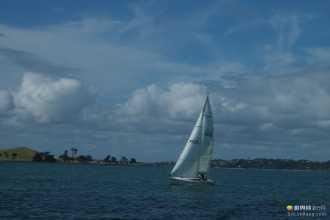fanchuan: (163, 93, 230, 187)
